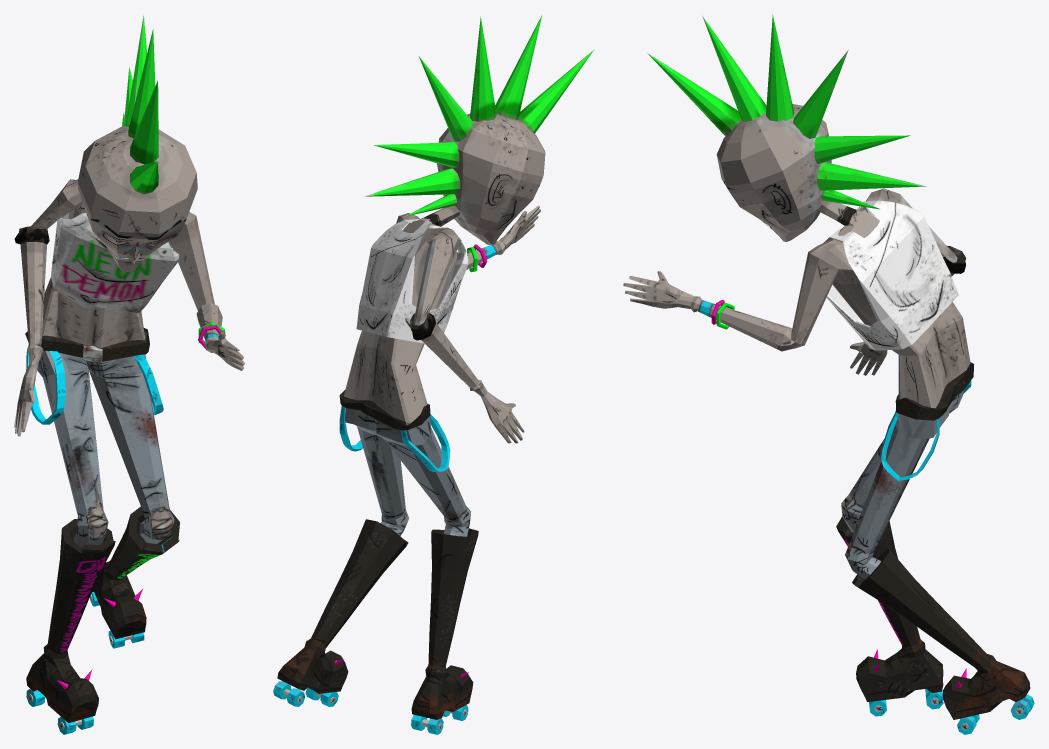
Rendered from punkAnimation_000024.obj.
3 renders of one model, left to right at view 1: azimuth 30°, elevation 25°; view 2: azimuth 150°, elevation 25°; view 3: azimuth 270°, elevation 25°, orthographic. The views are drawn at different scales.
Visible parts, largest first — view 1: Cube.004_Cube.003; view 2: Cube.004_Cube.003; view 3: Cube.004_Cube.003.
Boxes of the visible parts, <box> form: Cube.004_Cube.003: <box>14,14,244,734</box>; Cube.004_Cube.003: <box>273,15,594,734</box>; Cube.004_Cube.003: <box>623,14,1034,734</box>.
Bounding box in the file's own units: 1.85 × 6.86 × 3.61.
